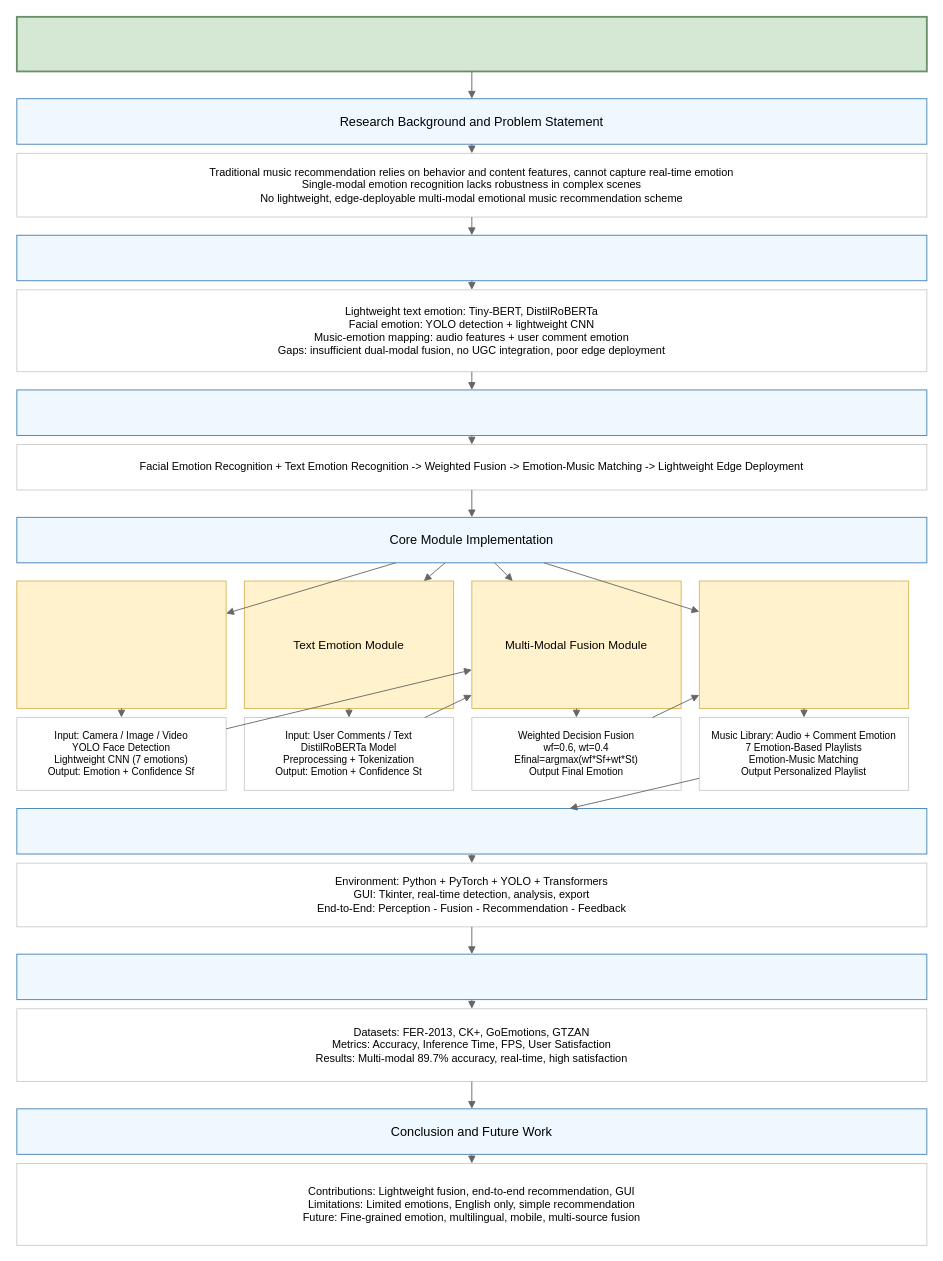
The diagram is 943 pixels wide and 1261 high, and some of its shapes have lost their labels. The box of each missing label's shape, as (x1, y1, x2, y2) in pixels:
Experiments and Evaluation: (16, 953, 927, 1000)
Facial Emotion Module: (16, 580, 226, 708)
Lightweight Multi-Modal Emotional Music Recommendation System: (15, 15, 927, 72)
Literature Review and Research Gaps: (16, 234, 927, 281)
Music Recommendation Module: (698, 580, 909, 708)
Overall Research Framework: (16, 389, 927, 435)
System Integration and GUI: (16, 808, 927, 854)
